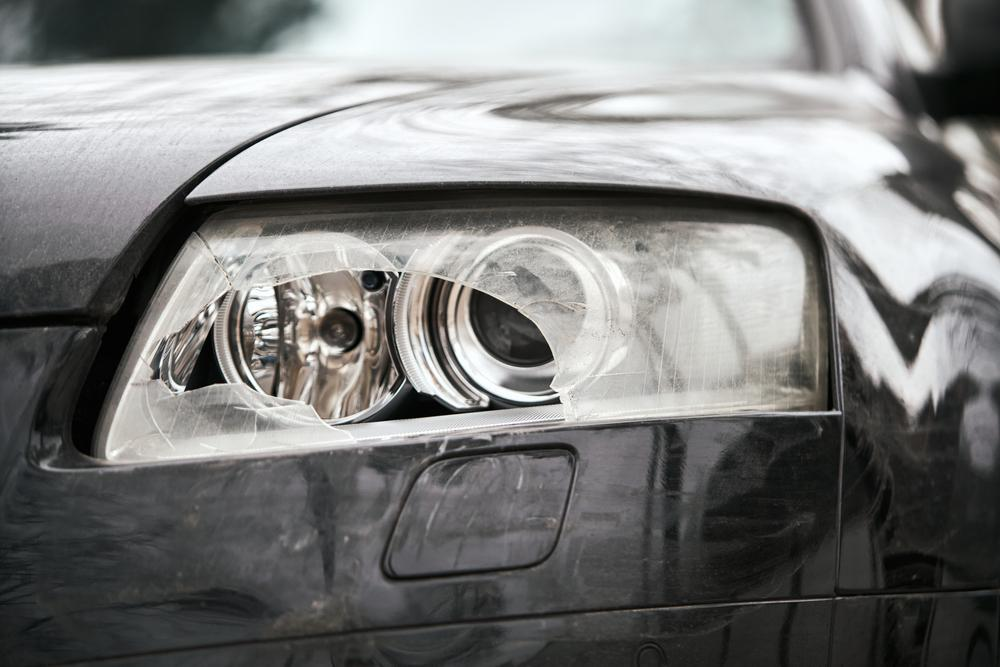lamp broken: (90, 195, 835, 463)
